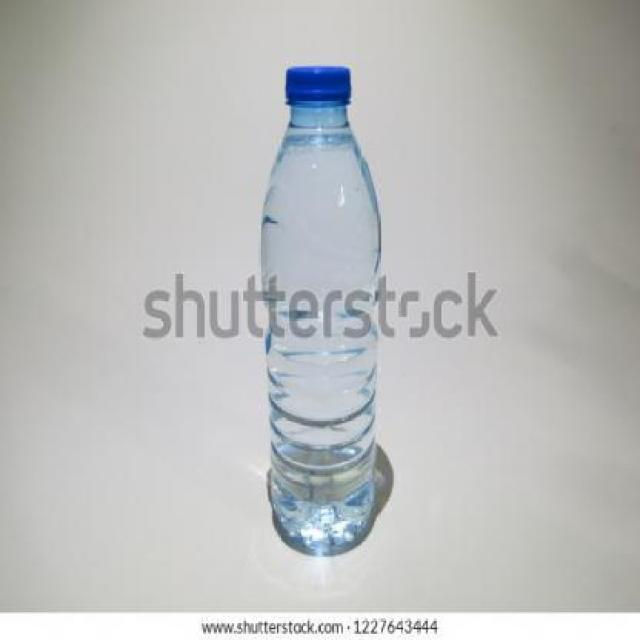bottle: (237, 42, 390, 575)
